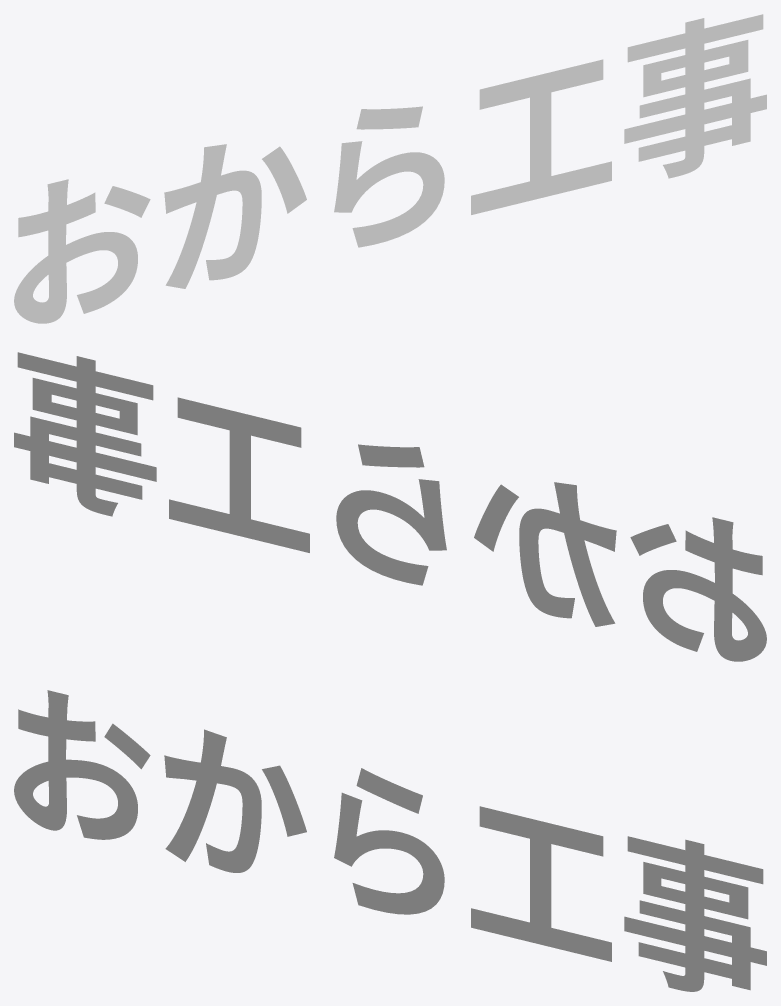
File: title.obj
3 views of the same model, one above another, from view 1: azimuth 30°, elevation 25°; view 2: azimuth 150°, elevation 25°; view 3: azimuth 330°, elevation 25° (orthographic).
Visible parts, largest first — view 1: テキスト; view 2: テキスト; view 3: テキスト.
Part boxes in pixels (x1,y1,x2,y2): テキスト: [14, 14, 766, 323]; テキスト: [14, 352, 766, 661]; テキスト: [14, 690, 766, 991].
Bounding box in the file's own units: 5.14 × 0.9912 × 0.
Materials: 1 (1 with a texture image).
